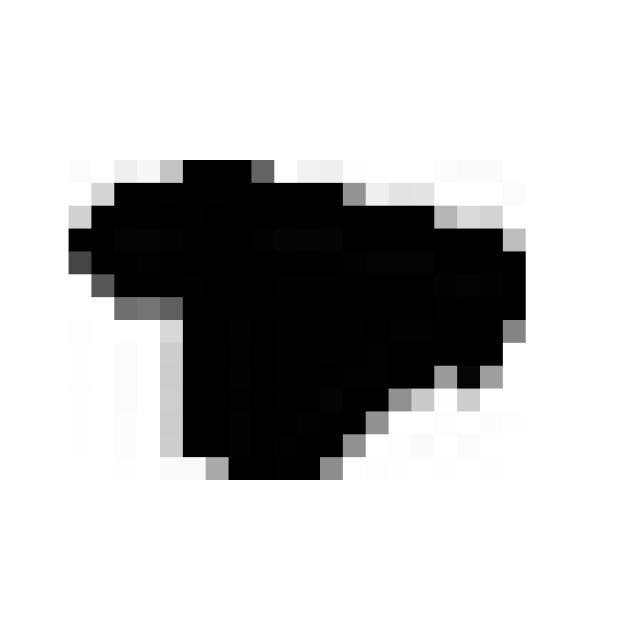0 -zero-: (51, 140, 542, 498)
